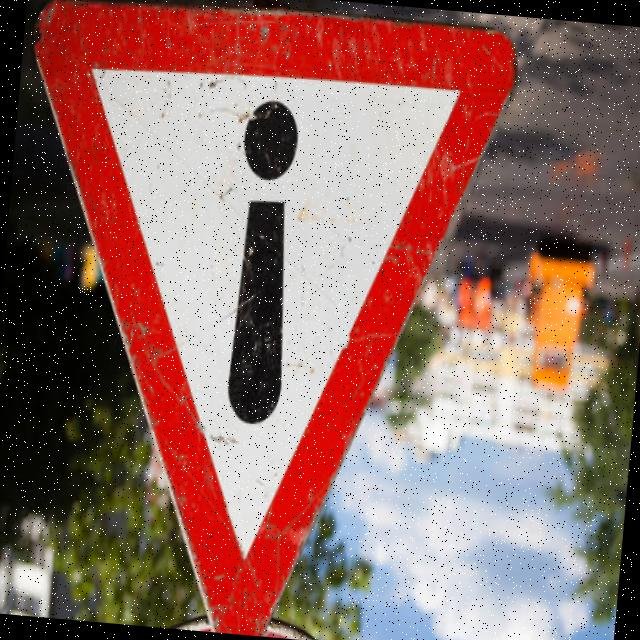warning: (0, 0, 526, 640)
